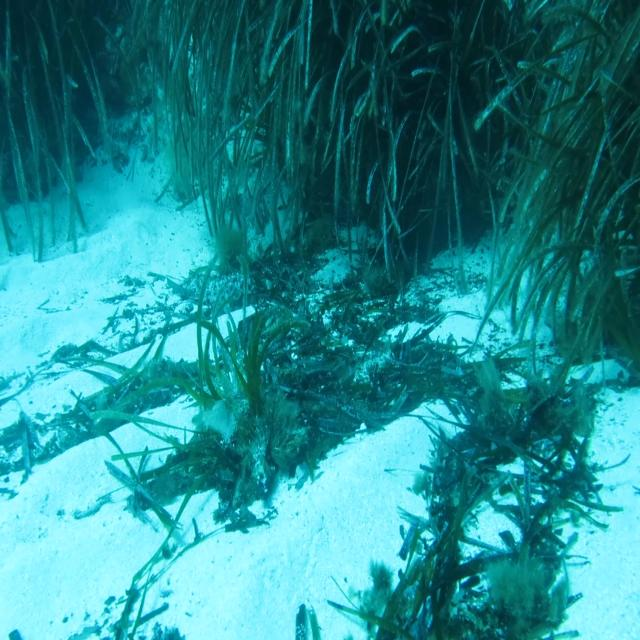SA: (191, 394, 233, 438)
vegetation: (269, 0, 640, 171), (437, 356, 593, 539), (216, 302, 383, 472), (0, 0, 248, 101), (386, 540, 574, 640)
